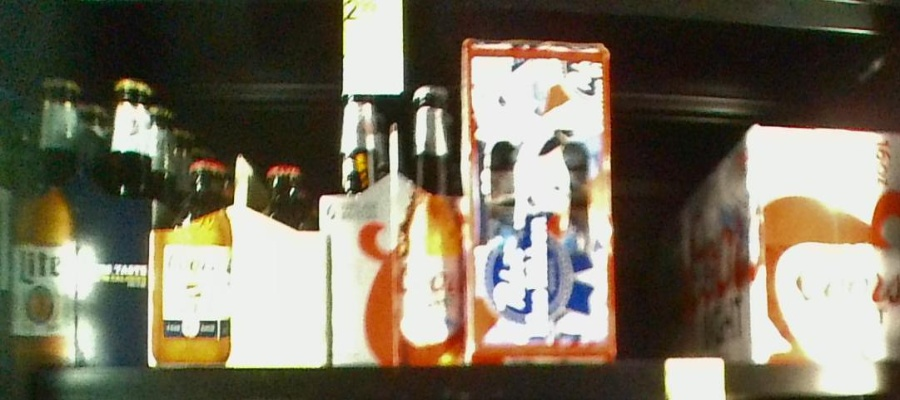bottle: (460, 34, 617, 365), (10, 71, 149, 373), (327, 73, 468, 366), (715, 133, 900, 350), (151, 156, 326, 365)
